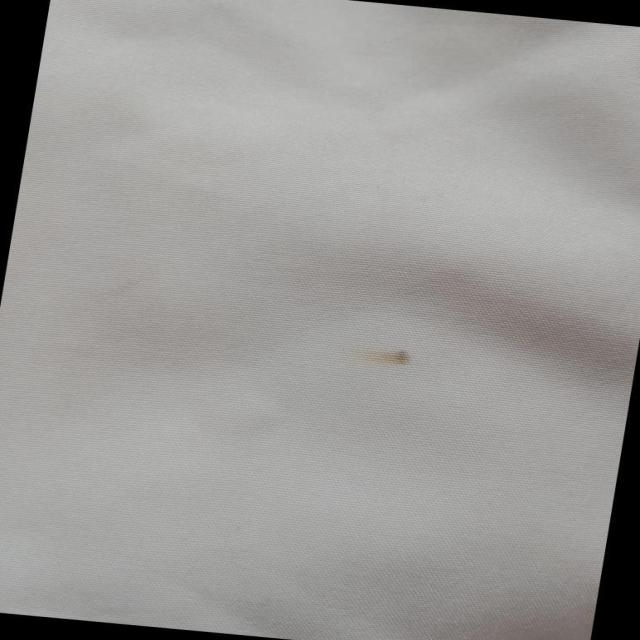stain: (318, 331, 438, 382)
